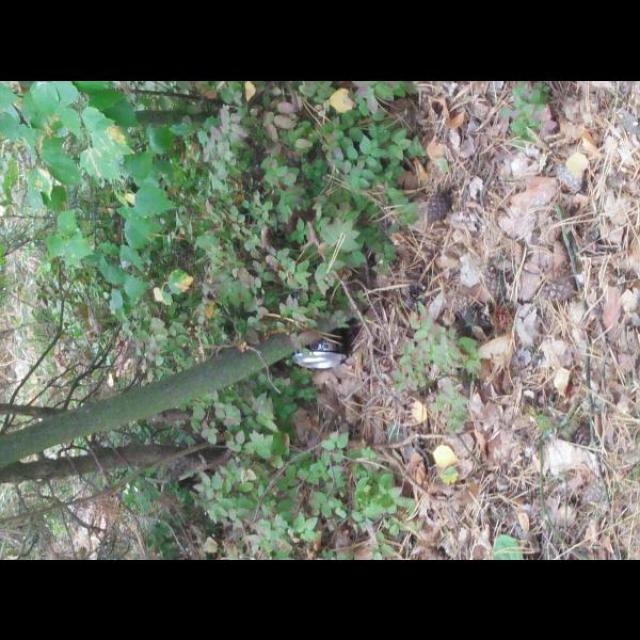plastic_waste: (277, 328, 367, 390)
